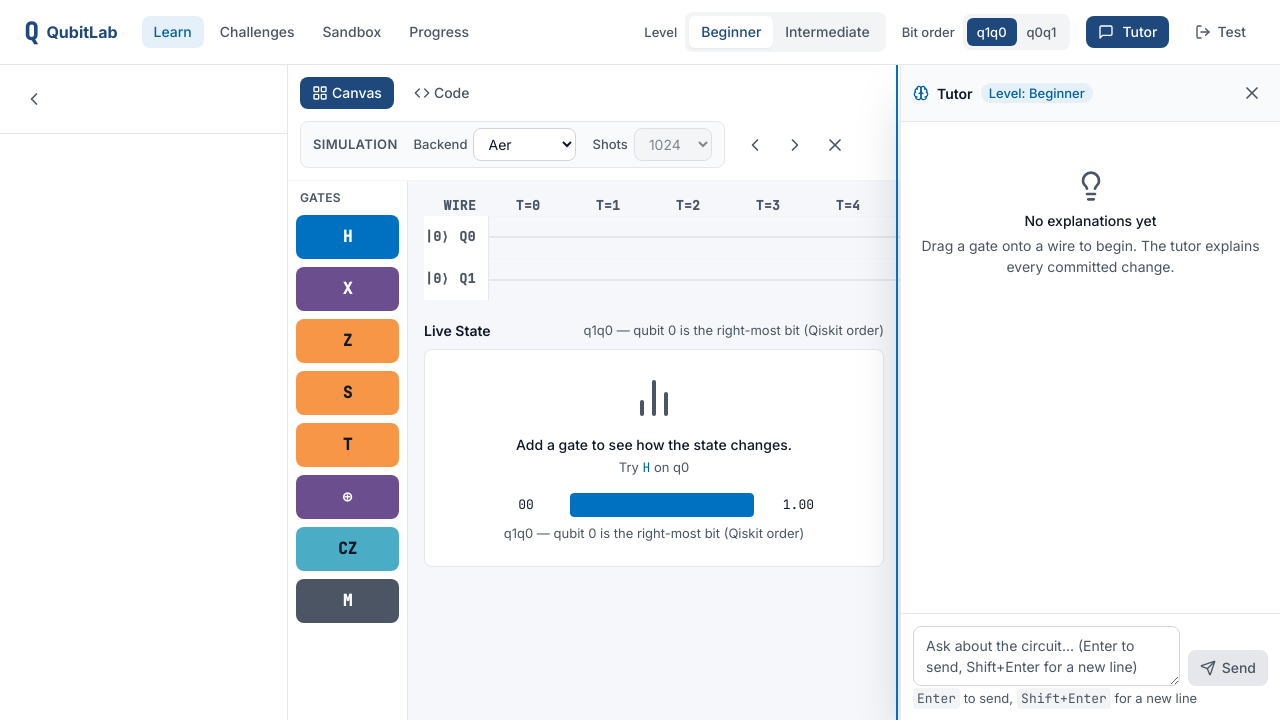
Workspace layout › shows the gate palette on the Canvas tab and hides it on the Code tab
Expected: the element named "Gate palette" is shown, left=288, top=181, right=407, bottom=631
What coordinates should you click on to do the following:
click the button "Code"
I would click on:
 (442, 93)
Its box is left=402, top=77, right=482, bottom=109.
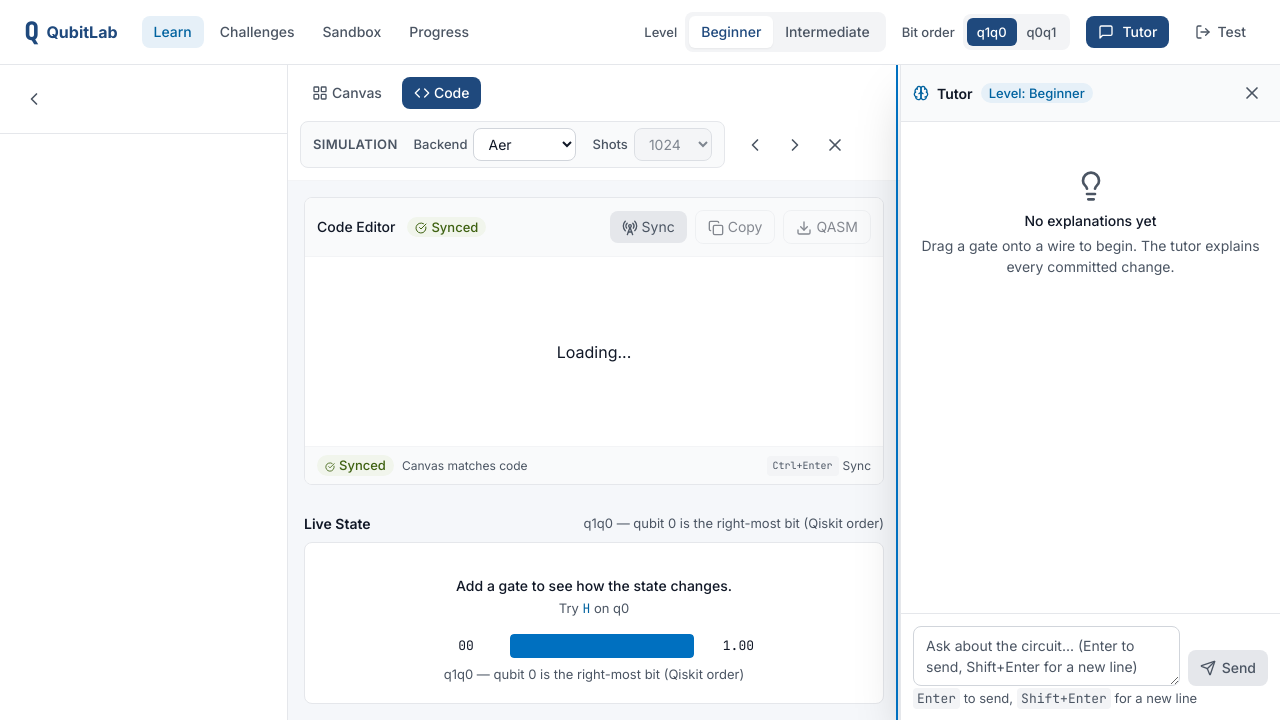
What coordinates should you click on to do the following:
click the button "Canvas"
I would click on:
 (347, 93)
Its box is left=300, top=77, right=394, bottom=109.
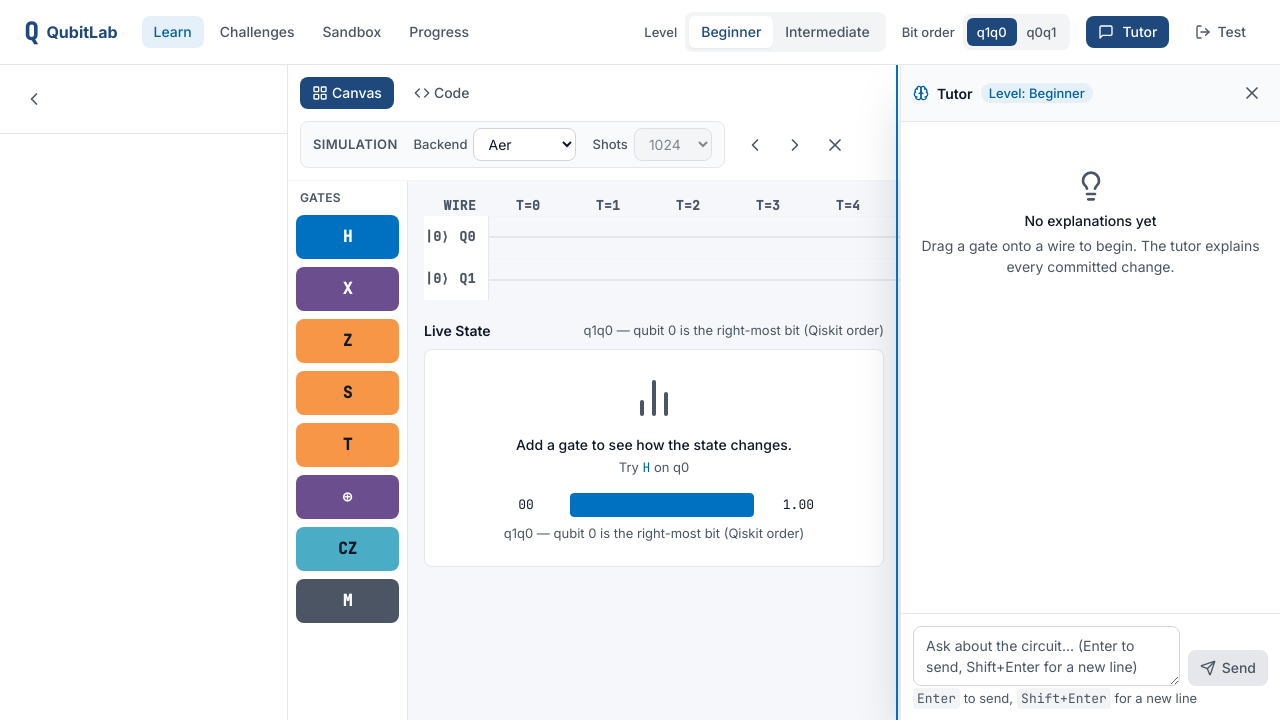
Expected: the element named "Gate palette" is shown, left=288, top=181, right=407, bottom=631
